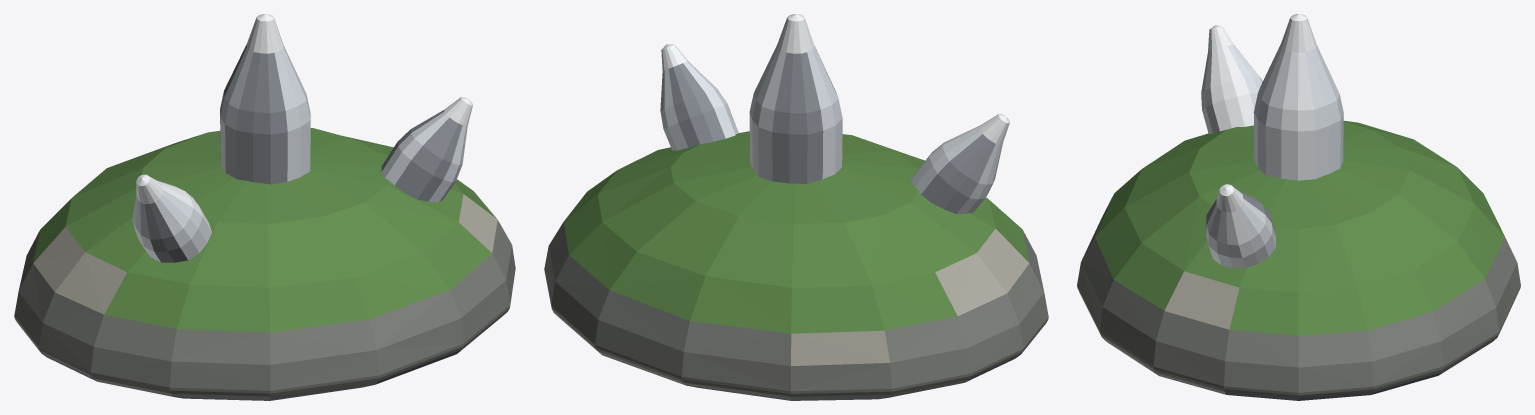
File: OreVein2Far.obj
3 views of the same model, side by side, from view 1: azimuth 30°, elevation 25°; view 2: azimuth 150°, elevation 25°; view 3: azimuth 270°, elevation 25° (orthographic). The views are drawn at different scales.
Bounding box in the file's own units: 4.58 × 3.15 × 4.
